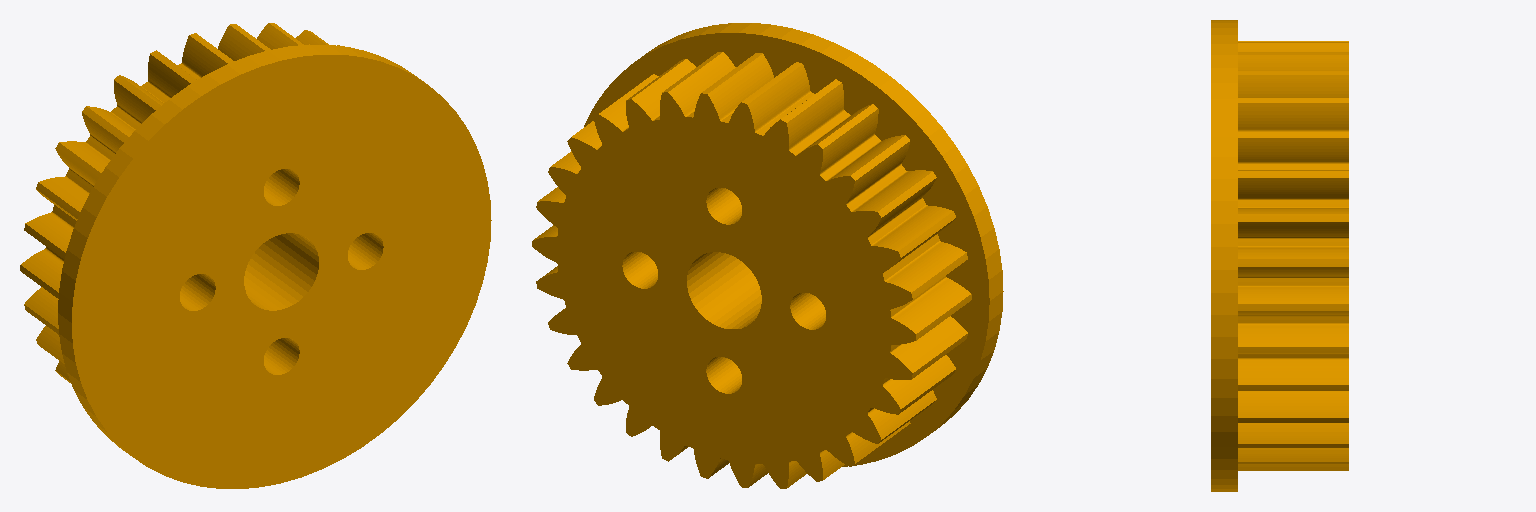
URDF robot description (gear_3_L0.68_T0.66):
<?xml version="1.0" encoding="utf-8"?>
<robot name="gear_3_L0.68_T0.66">
  <link name="gear_3_L0.68_T0.66Link">
    <contact>
      <lateral_friction value="1"/>
    </contact>
    <inertial>
      <origin rpy="0 0 0" xyz="0 0 0"/>
      <mass value="0.0"/>
      <inertia ixx="0" ixy="0" ixz="0" iyy="0" iyz="0" izz="0"/>
    </inertial>
    <visual>
      <origin rpy="0 0 0" xyz="0 0 0"/>
      <geometry>
        <mesh filename="generated_stl/gear/gear_3/gear_3_L0.68_T0.66/gear_3_L0.68_T0.66.stl" scale="0.01 0.01 0.01"/>
      </geometry>
    </visual>
    <collision>
      <origin rpy="0 0 0" xyz="0 0 0"/>
      <geometry>
        <mesh filename="generated_stl/gear/gear_3/gear_3_L0.68_T0.66/gear_3_L0.68_T0.66.stl" scale="0.01 0.01 0.01"/>
      </geometry>
    </collision>
  </link>
</robot>

--- Render facts (derived) ---
Views: 3 orthographic renders of the robot side by side, from view 1: azimuth 30°, elevation 25°; view 2: azimuth 150°, elevation 25°; view 3: azimuth 270°, elevation 25°.
Robot: gear_3_L0.68_T0.66 — 1 links, 0 joints (none); root link gear_3_L0.68_T0.66Link; default pose: all joints at 0.
Links seen in each view (by area): view 1: gear_3_L0.68_T0.66Link; view 2: gear_3_L0.68_T0.66Link; view 3: gear_3_L0.68_T0.66Link.
Boxes of the visible links, x1,y1,x2,y2 form: gear_3_L0.68_T0.66Link: [20, 23, 491, 488]; gear_3_L0.68_T0.66Link: [532, 23, 1003, 488]; gear_3_L0.68_T0.66Link: [1211, 20, 1348, 491].
Size in the robot's own frame: 0.0341 by 0.0097 by 0.0328 metres.
1 mesh visuals loaded from 1 distinct referenced files (1 binary STL).